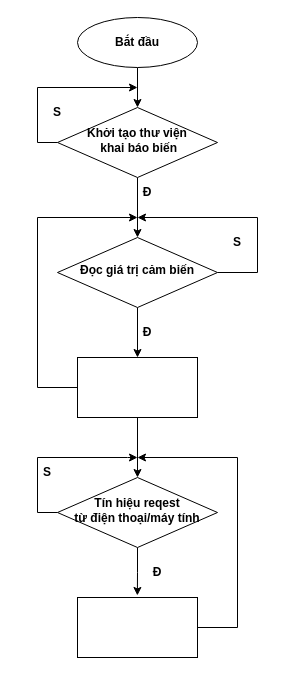
Some shapes in this 284 by 675 pixel diagram are drawn without their labels. Here are the shapes that lost their labels. From the top down, the centre of each, then its label:
At point 137,387: "delay: 5 giây In ra màn hình giá trị nhiệt độ, độ ẩm".
At point 137,627: "Trả về giá trị nhiệt độ và độ ẩm".
